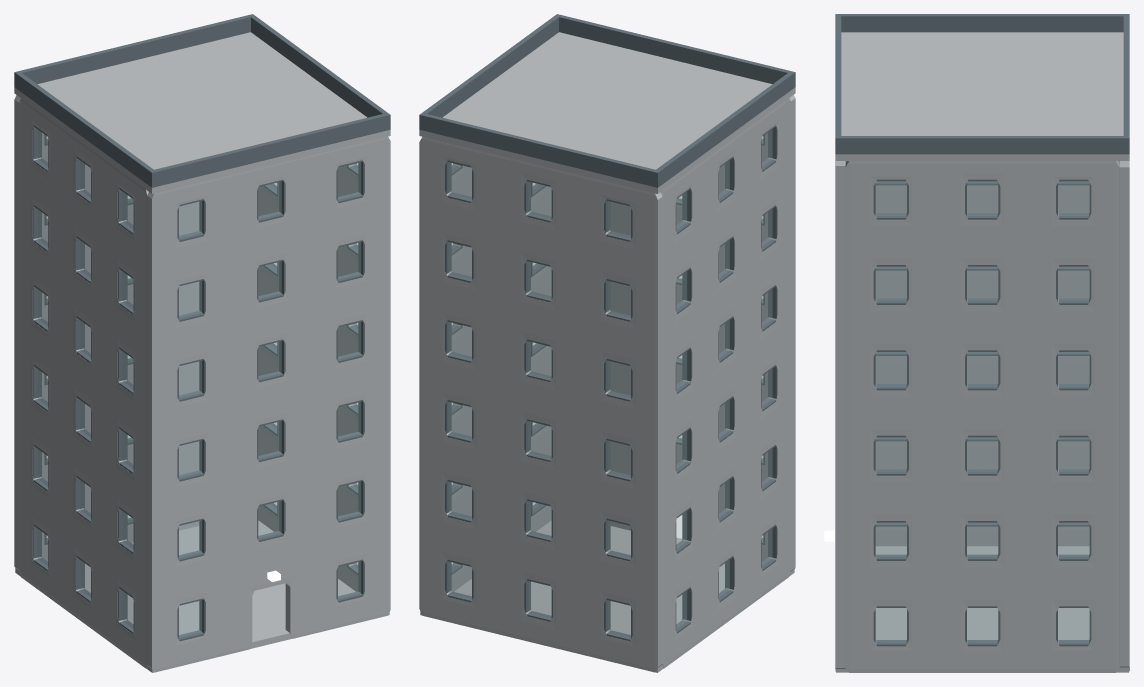
File: block_6_lod0.glb
3 renders of one model, left to right at view 1: azimuth 30°, elevation 25°; view 2: azimuth 150°, elevation 25°; view 3: azimuth 270°, elevation 25°, orthographic. The views are drawn at different scales.
Parts seen in each view (by area): view 1: Wall_0 baked, Wall_3 baked, Ceiling baked, Wall_1 baked, Wall_2 baked, Parapet baked, Parapet.002 baked, Floor baked, Parapet.001 baked, Parapet.003 baked, Glazing.009 baked, Glazing.015 baked (+15 smaller); view 2: Wall_1 baked, Wall_3 baked, Ceiling baked, Wall_0 baked, Wall_2 baked, Parapet.002 baked, Parapet baked, Parapet.001 baked, Parapet.003 baked, Floor baked, Glazing.027 baked, Glazing.033 baked (+16 smaller); view 3: Wall_2 baked, Ceiling baked, Wall_3 baked, Wall_0 baked, Wall_1 baked, Parapet.001 baked, Parapet.003 baked, Floor baked, Glazing.037 baked, Glazing.043 baked, Glazing.046 baked, Glazing.052 baked (+16 smaller).
Boxes of the visible parts, x1,y1,x2,y2 form: Wall_0 baked: (147,136,390,672); Wall_3 baked: (19,98,148,668); Ceiling baked: (14,32,390,193); Wall_1 baked: (14,95,199,570); Wall_2 baked: (258,164,358,591); Parapet baked: (149,113,390,187); Parapet.002 baked: (14,14,254,88); Floor baked: (15,520,389,672); Parapet.001 baked: (17,73,153,185); Parapet.003 baked: (251,16,387,117); Glazing.009 baked: (258,342,281,378); Glazing.015 baked: (258,182,281,218); Wall_1 baked: (419,136,662,672); Wall_3 baked: (660,98,790,668); Ceiling baked: (419,32,795,193); Wall_0 baked: (610,95,795,571); Wall_2 baked: (451,164,551,591); Parapet.002 baked: (419,113,660,187); Parapet baked: (555,14,795,88); Parapet.001 baked: (656,73,792,185); Parapet.003 baked: (422,16,558,117); Floor baked: (420,520,794,672); Glazing.027 baked: (528,342,551,378); Glazing.033 baked: (528,182,551,218); Wall_2 baked: (845,161,1119,672); Ceiling baked: (835,32,1129,160); Wall_3 baked: (846,161,1089,546); Wall_0 baked: (835,161,845,671); Wall_1 baked: (1119,161,1129,671); Parapet.001 baked: (841,14,1123,32); Parapet.003 baked: (841,136,1123,154); Floor baked: (836,546,1128,672); Glazing.037 baked: (1058,608,1089,642); Glazing.043 baked: (1058,437,1089,471); Glazing.046 baked: (1058,352,1089,386); Glazing.052 baked: (1058,181,1089,215).
Bounding box in the file's own units: 10 × 20.05 × 10.38.
